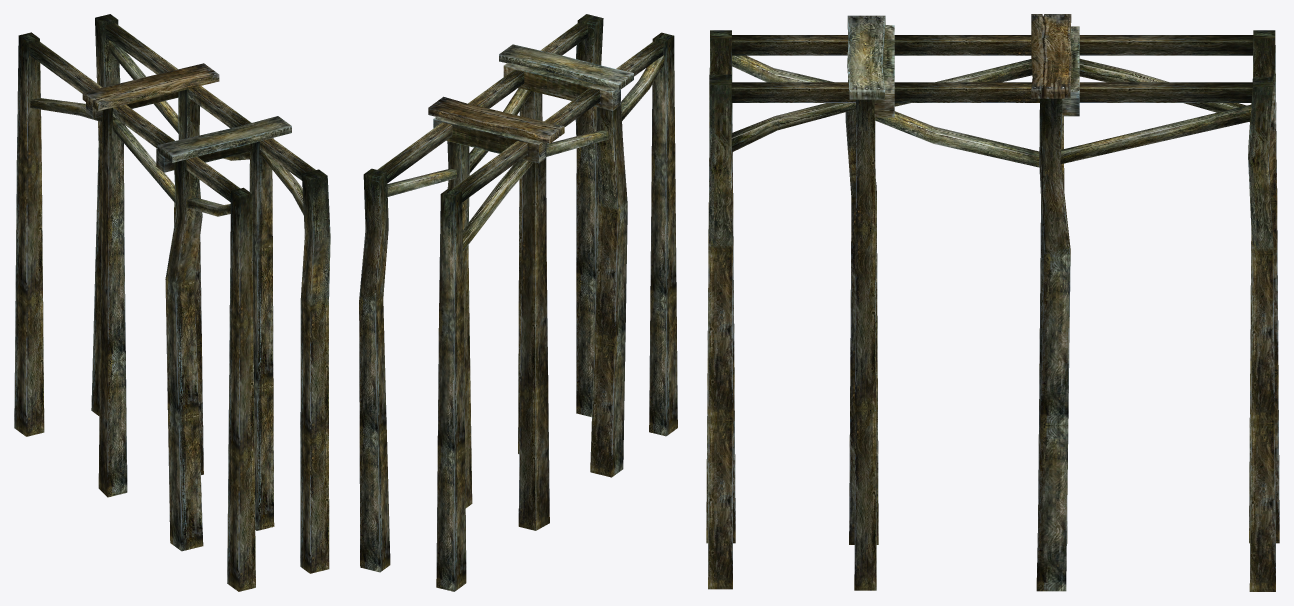
Rendered from most_13.glb.
3 views of the same model, side by side, from view 1: azimuth 30°, elevation 25°; view 2: azimuth 150°, elevation 25°; view 3: azimuth 270°, elevation 25° (orthographic). The views are drawn at different scales.
Parts seen in each view (by area): view 1: most_13-col; view 2: most_13-col; view 3: most_13-col.
Boxes of the visible parts, x1,y1,x2,y2 form: most_13-col: (14,14,330,591); most_13-col: (359,14,677,591); most_13-col: (706,14,1279,591).
Bounding box in the file's own units: 3.87 × 12.03 × 12.24.
Materials: 5 (5 with a texture image).
